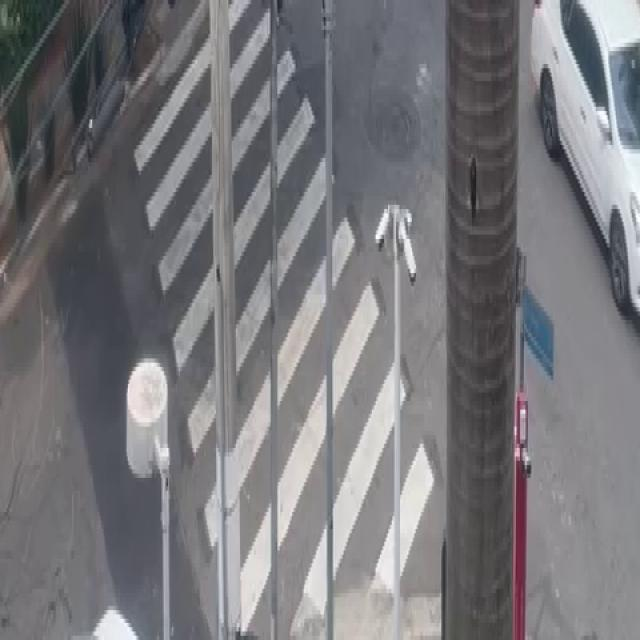car: (526, 0, 640, 302)
